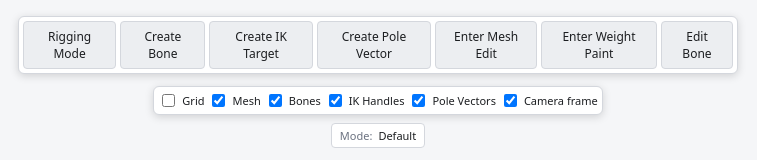
CanvasToolbar › enters pole vector mode when Create Pole Vector is clicked
Click the button "Create Pole Vector" at (374, 45), box [317,21,431,69]
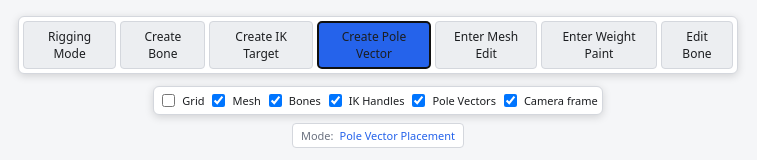
Now the text "Pole Vector Placement" is shown, box [340,128,455,143]
